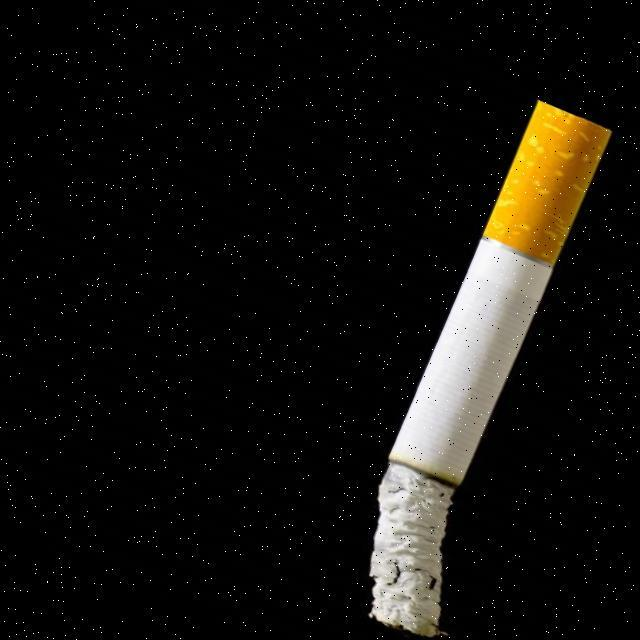cigarette: (335, 101, 640, 640)
